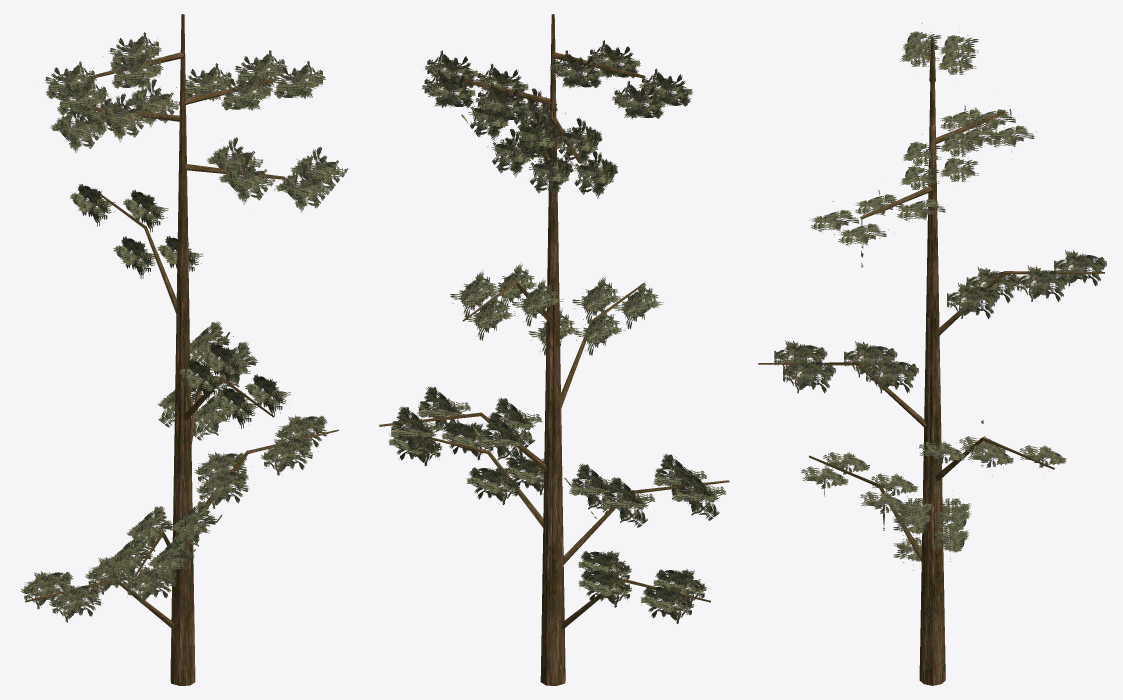
The model's file is tree-small.obj.
The picture shows the model from 3 angles, left to right: view 1: azimuth 30°, elevation 25°; view 2: azimuth 150°, elevation 25°; view 3: azimuth 270°, elevation 25°; orthographic projection. The views are drawn at different scales.
Visible parts, largest first — view 1: entity0_brush2, entity0_brush3, entity0_brush1, entity0_brush206, entity0_brush214, entity0_brush217, entity0_brush209, entity0_brush6, entity0_brush197, entity0_brush196, entity0_brush218, entity0_brush227 (+40 smaller); view 2: entity0_brush0, entity0_brush5, entity0_brush1, entity0_brush4, entity0_brush194, entity0_brush196, entity0_brush193, entity0_brush211, entity0_brush225, entity0_brush230, entity0_brush222, entity0_brush229 (+32 smaller); view 3: entity0_brush7, entity0_brush6, entity0_brush4, entity0_brush201, entity0_brush198, entity0_brush204, entity0_brush202, entity0_brush3, entity0_brush205, entity0_brush5, entity0_brush199, entity0_brush200 (+25 smaller).
Part boxes in pixels (x1,y1,x2,y2): entity0_brush2: (175,302,184,685); entity0_brush3: (183,302,192,685); entity0_brush1: (170,301,179,684); entity0_brush206: (199,471,249,508); entity0_brush214: (52,584,102,622); entity0_brush217: (274,163,325,211); entity0_brush209: (264,436,312,475); entity0_brush6: (187,301,195,683); entity0_brush197: (148,536,193,586); entity0_brush196: (105,535,151,585); entity0_brush218: (224,156,268,204); entity0_brush227: (100,93,143,141); entity0_brush0: (551,304,560,685); entity0_brush5: (543,303,552,685); entity0_brush1: (556,302,565,684); entity0_brush4: (540,306,548,683); entity0_brush194: (473,407,526,465); entity0_brush196: (674,470,719,520); entity0_brush193: (391,406,436,457); entity0_brush211: (603,477,648,527); entity0_brush225: (530,149,581,197); entity0_brush230: (614,81,663,119); entity0_brush222: (424,69,473,107); entity0_brush229: (552,50,602,87); entity0_brush7: (928,318,936,685); entity0_brush6: (921,318,930,684); entity0_brush4: (935,318,943,684); entity0_brush201: (783,357,835,393); entity0_brush198: (866,357,918,393); entity0_brush204: (1017,265,1069,301); entity0_brush202: (947,282,999,318); entity0_brush3: (919,316,928,681); entity0_brush205: (1054,249,1106,286); entity0_brush5: (937,316,945,681); entity0_brush199: (844,341,897,377); entity0_brush200: (774,340,827,376).
Size of the model in its own units: 634 by 1288 by 641.
Materials: 2 (2 with a texture image).
